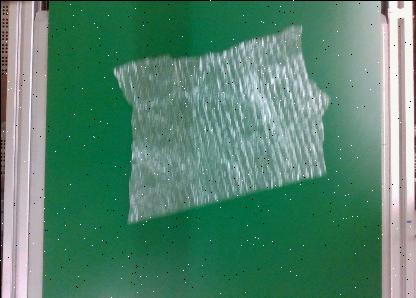Others: (112, 22, 328, 224)
